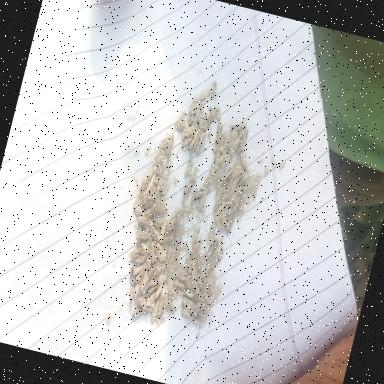pbw: (207, 246, 224, 274), (204, 234, 220, 262), (190, 278, 206, 303), (142, 172, 156, 200), (145, 238, 160, 264), (138, 268, 153, 294), (226, 183, 242, 207), (236, 128, 250, 154), (172, 204, 186, 230), (144, 218, 160, 240), (149, 261, 165, 283), (130, 200, 148, 219), (134, 294, 154, 311), (184, 127, 198, 151), (182, 175, 197, 197), (132, 215, 152, 231), (158, 292, 170, 318), (198, 260, 212, 282), (200, 291, 214, 313), (191, 250, 205, 272), (179, 296, 196, 314), (220, 130, 234, 151), (187, 239, 201, 260), (183, 154, 195, 178), (208, 74, 220, 98), (152, 190, 164, 214), (137, 173, 149, 197), (143, 248, 155, 272), (177, 126, 193, 144), (196, 300, 209, 322), (166, 127, 176, 155), (180, 132, 194, 152), (152, 242, 166, 262), (190, 185, 204, 205), (149, 298, 160, 323), (213, 186, 224, 211), (139, 190, 154, 208), (126, 264, 138, 286), (188, 250, 200, 272), (155, 296, 166, 320), (237, 150, 250, 170), (182, 256, 195, 276), (192, 296, 205, 316), (145, 275, 161, 291), (178, 307, 194, 323), (132, 260, 146, 278), (134, 227, 152, 241), (153, 158, 165, 179), (224, 210, 234, 235), (188, 268, 199, 290), (146, 201, 158, 221), (234, 196, 244, 220), (158, 220, 168, 244), (156, 270, 168, 290), (224, 177, 234, 200), (218, 207, 230, 226), (130, 252, 146, 266), (130, 304, 144, 320), (196, 131, 206, 153), (164, 245, 174, 267), (145, 288, 156, 308), (190, 134, 200, 156), (214, 144, 226, 162), (174, 238, 184, 259), (156, 195, 167, 214), (237, 122, 248, 141), (218, 146, 228, 166), (220, 150, 230, 170), (228, 178, 238, 198), (132, 278, 142, 298), (213, 105, 224, 123), (195, 112, 206, 130), (172, 277, 187, 290), (222, 164, 234, 180), (234, 188, 243, 209), (213, 216, 226, 230), (172, 118, 186, 131), (153, 282, 163, 300), (197, 193, 206, 212), (165, 300, 177, 314), (138, 241, 150, 255), (201, 86, 212, 101), (177, 272, 192, 283), (201, 112, 210, 130), (216, 124, 224, 144), (136, 247, 148, 260), (210, 144, 224, 155), (213, 123, 221, 142), (164, 290, 176, 302), (171, 254, 180, 270), (162, 233, 174, 245), (229, 122, 241, 133), (151, 216, 164, 226), (127, 286, 135, 302), (206, 112, 214, 128), (192, 316, 204, 326), (171, 266, 181, 278)
